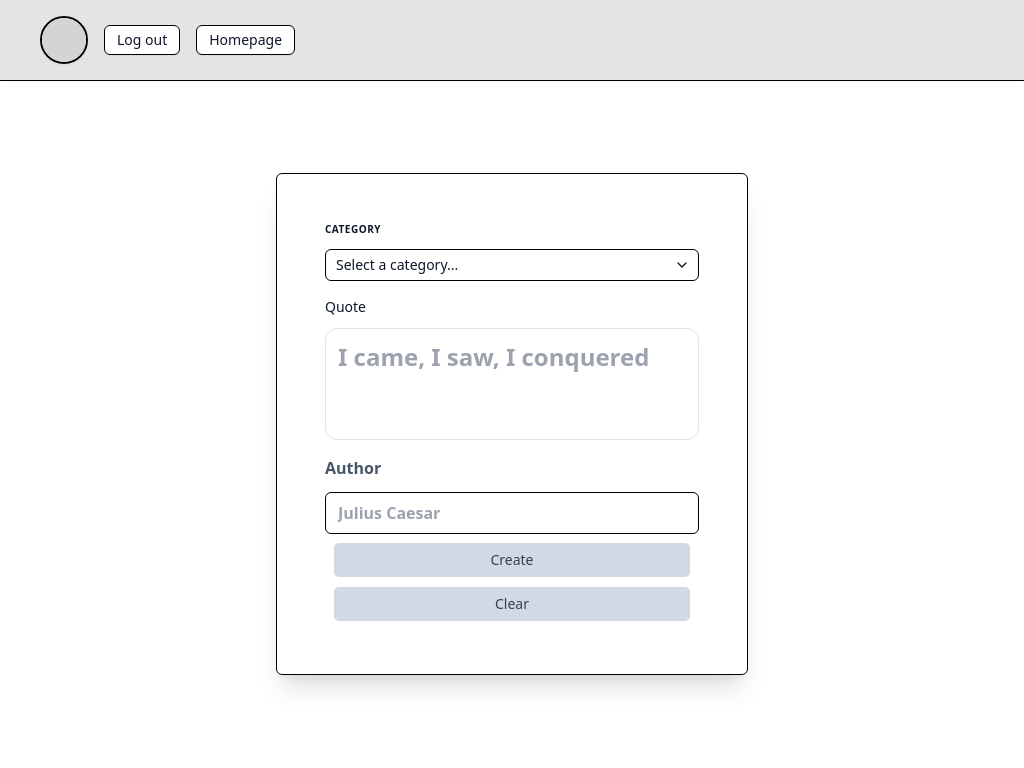
it: AddNewQuotePage › shows the category warning and does not save when that field is left empty
This screenshot has width=1024, height=768.
In the field labelled "Author": (512, 513) [325,492,699,534], type "Wilde"
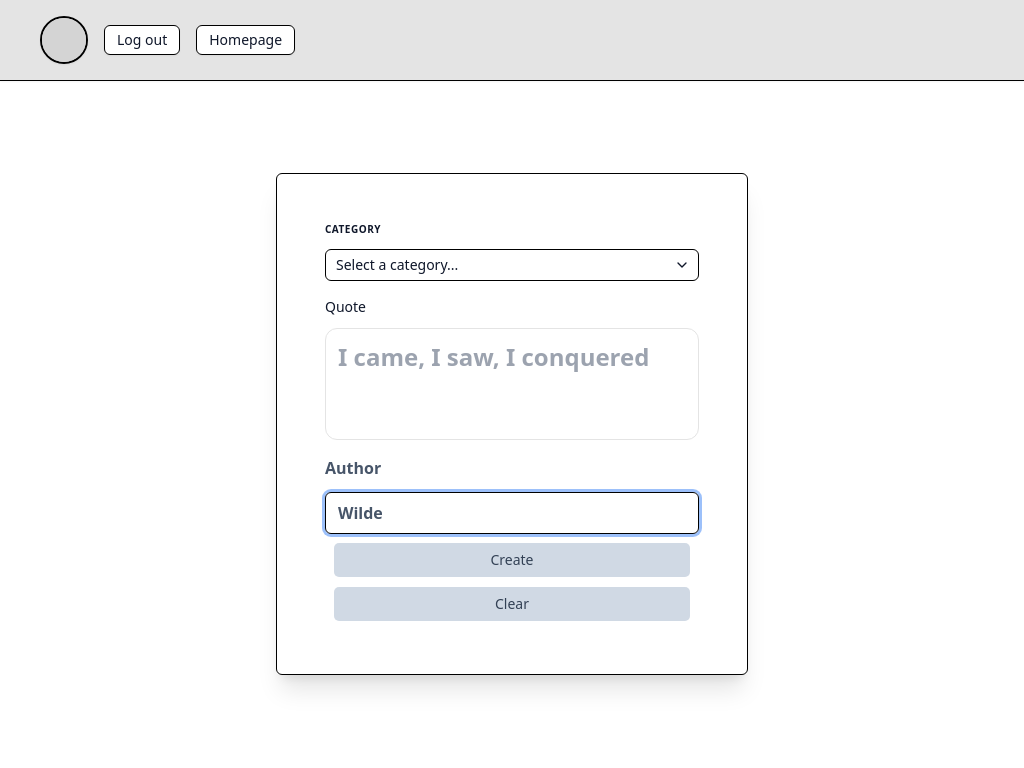
In the text box labelled "Quote": (512, 384) [325,328,699,440], type "Be yourself"
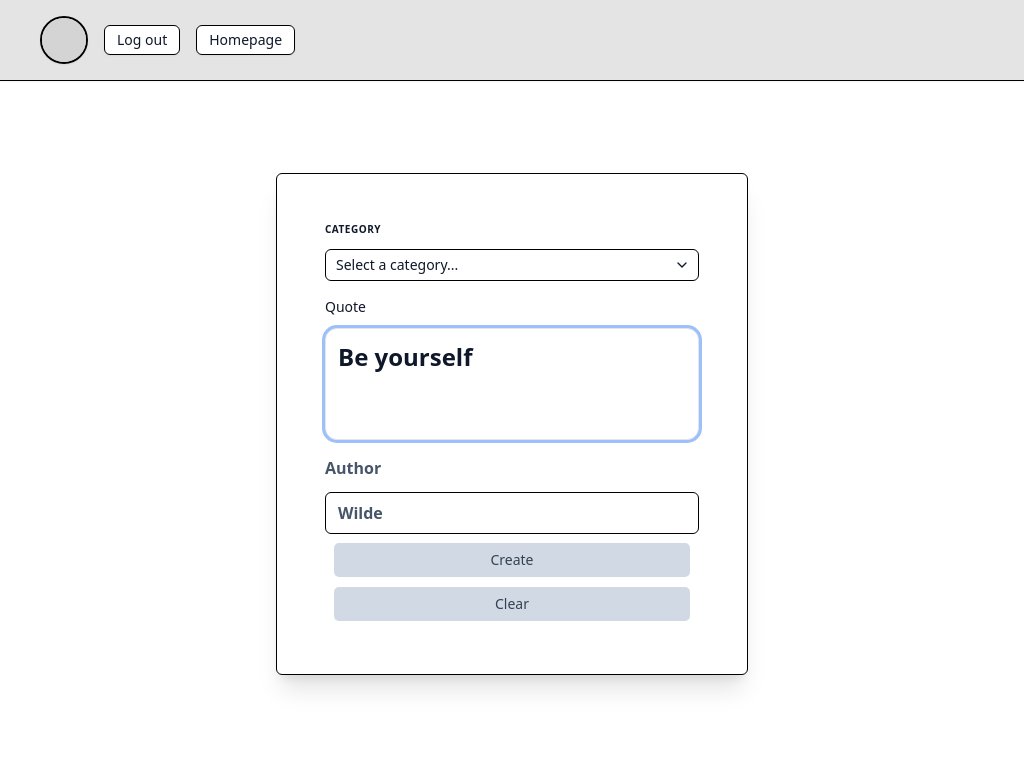
Click the button "Create": (512, 560) [333,542,691,578]
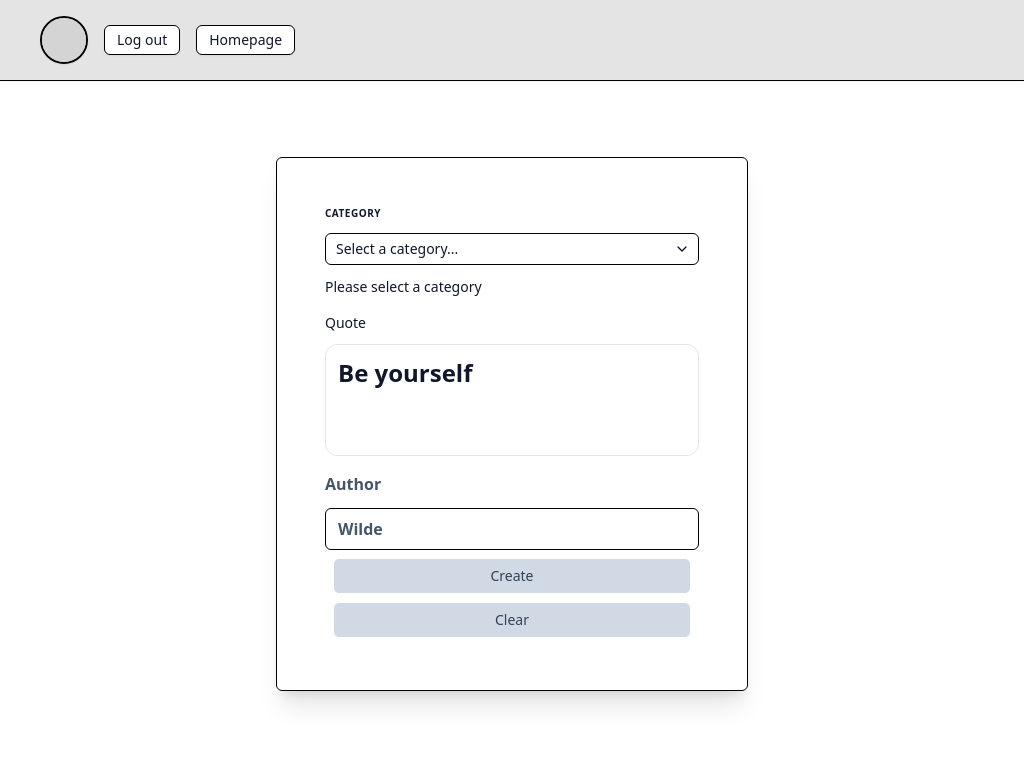
Check: the message reads "Please select a category", box [325,277,482,296]
